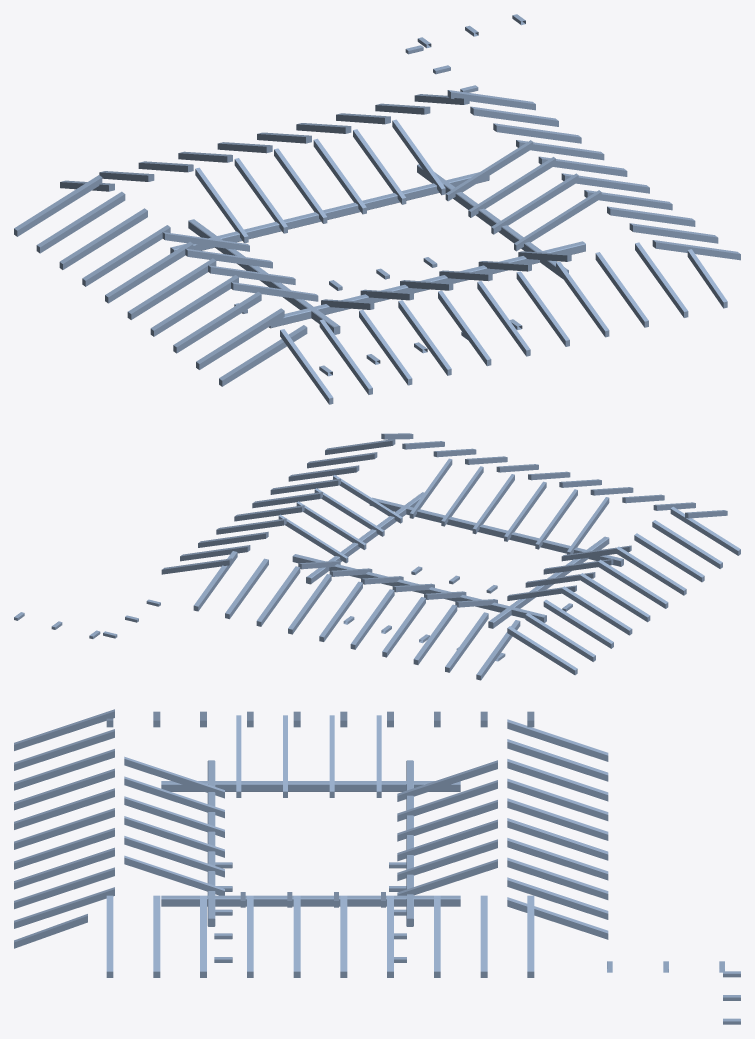
Rendered from SM_roof_beams.fbx.
The picture shows the model from 3 angles, top to bottom: view 1: azimuth 30°, elevation 25°; view 2: azimuth 150°, elevation 25°; view 3: azimuth 270°, elevation 25°; orthographic projection. The views are drawn at different scales.
Visible parts, largest first — view 1: Underbeam13, polySurface135, Underbeam14, Fireplace:Fireplace:Fireplace:Fireplace:Fireplace:Fireplace:, Underbeam10, polySurface126, polySurface137, polySurface136, polySurface132, Beam12; view 2: Underbeam13, Underbeam10, Underbeam14, Fireplace:Fireplace:Fireplace:Fireplace:Fireplace:Fireplace:, polySurface135, polySurface132, polySurface137, polySurface136, polySurface126, Beam12; view 3: Underbeam10, polySurface135, Fireplace:Fireplace:Fireplace:Fireplace:Fireplace:Fireplace:, Underbeam14, polySurface132, polySurface126, polySurface136, Underbeam13, Beam12.
Part boxes in pixels (x1,y1,x2,y2): Underbeam13: (14, 175, 307, 386); polySurface135: (280, 242, 727, 404); Underbeam14: (447, 90, 740, 260); Fireplace:Fireplace:Fireplace:Fireplace:Fireplace:Fireplace:: (170, 164, 585, 334); Underbeam10: (60, 94, 469, 191); polySurface126: (195, 119, 445, 243); polySurface137: (445, 140, 601, 251); polySurface136: (162, 232, 318, 301); polySurface132: (321, 251, 571, 309); Beam12: (234, 257, 522, 376); Underbeam13: (507, 506, 740, 675); Underbeam10: (193, 551, 520, 680); Underbeam14: (161, 439, 395, 574); Fireplace:Fireplace:Fireplace:Fireplace:Fireplace:Fireplace:: (292, 492, 623, 628); polySurface135: (381, 433, 727, 518); polySurface132: (409, 458, 609, 554); polySurface137: (278, 475, 402, 563); polySurface136: (507, 545, 631, 600); polySurface126: (298, 560, 497, 607); Beam12: (343, 566, 572, 661); Underbeam10: (507, 719, 608, 939); polySurface135: (14, 709, 114, 948); Fireplace:Fireplace:Fireplace:Fireplace:Fireplace:Fireplace:: (161, 760, 460, 926); Underbeam14: (106, 895, 534, 977); polySurface132: (124, 756, 224, 895); polySurface126: (397, 760, 497, 895); polySurface136: (236, 715, 381, 797); Underbeam13: (106, 711, 534, 727); Beam12: (214, 862, 406, 962).
Bounding box in the file's own units: 3828 × 639 × 3887.
